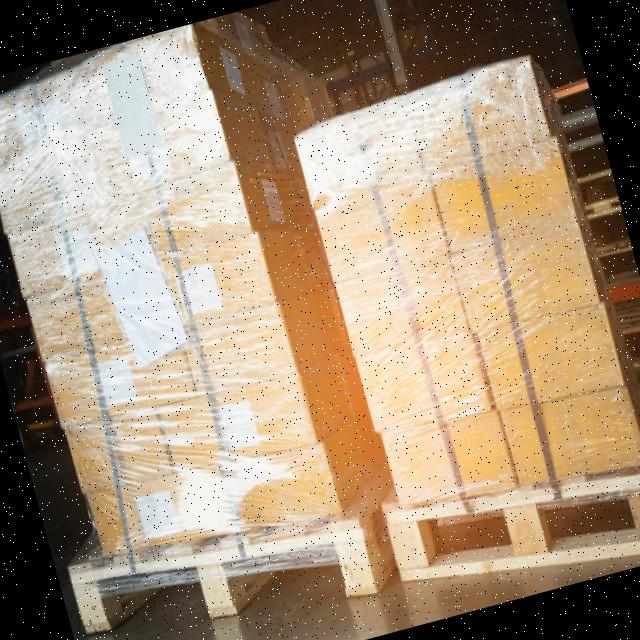Wooden-Pallets: (68, 507, 386, 636), (379, 456, 640, 592)
